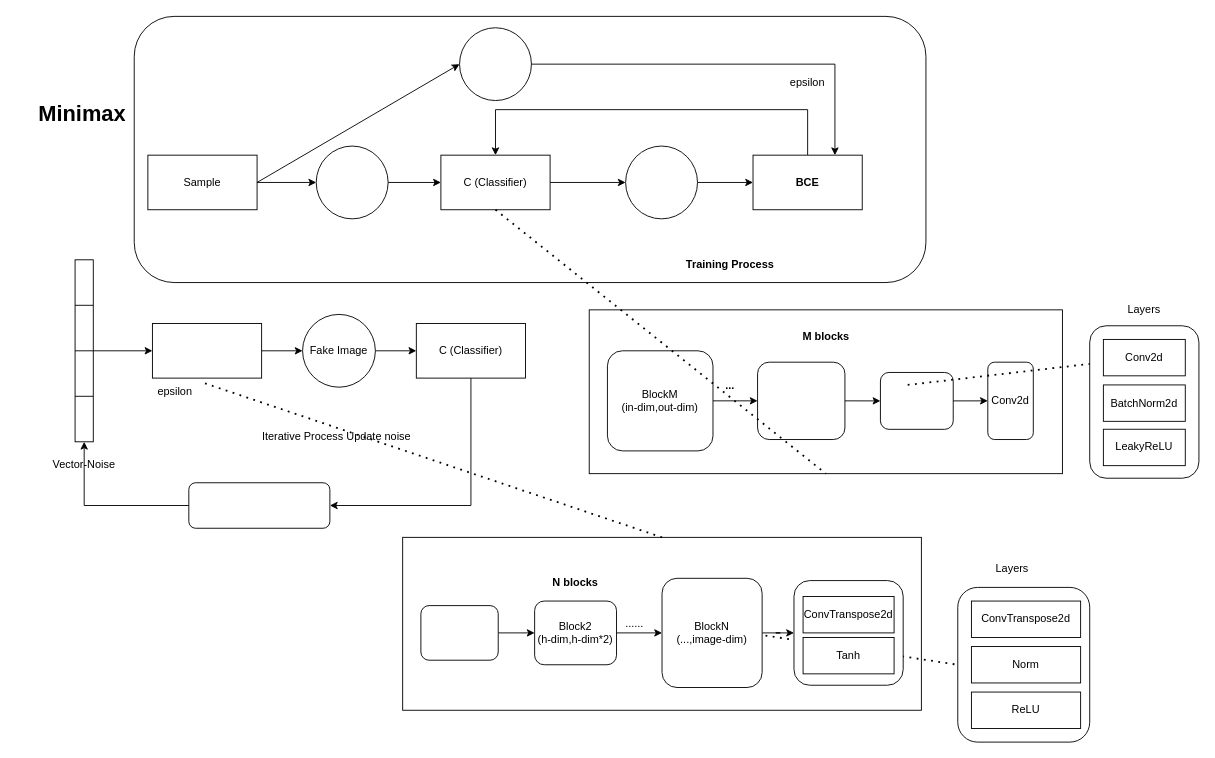
Image size: 1215x758. Some labels were removed from this diagram. Each missing label, with the centre of its shape:
"Block1 (..,out-dim'')" goes at (916,400).
"Block1 (z-dim,h-dim)" goes at (459,632).
"Block2 (out-dim,out-dim')" goes at (801,400).
"disentanglement" goes at (259,505).
"G (Generator)" goes at (207,350).
"Grouth-truth" goes at (495,64).
"Label" goes at (661,182).
"Real Image" goes at (351,182).
